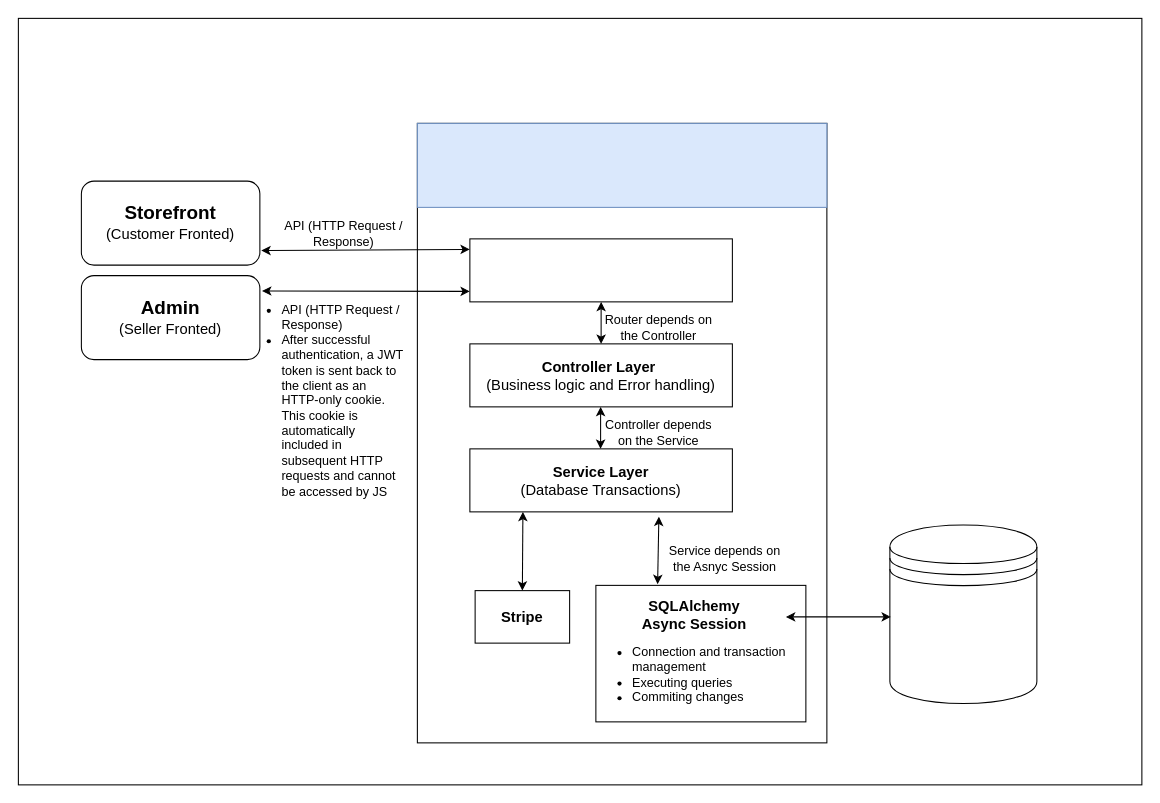
Image size: 1160x803. Some labels were removed from this diagram. Here are the shapes that lost their labels. From the top down, the centre of each, then its label:
At point 621,164: "Backend".
At point 600,270: "API Router Layer (Handles HTTP Requests / Responses)".
At point 963,614: "Database".
